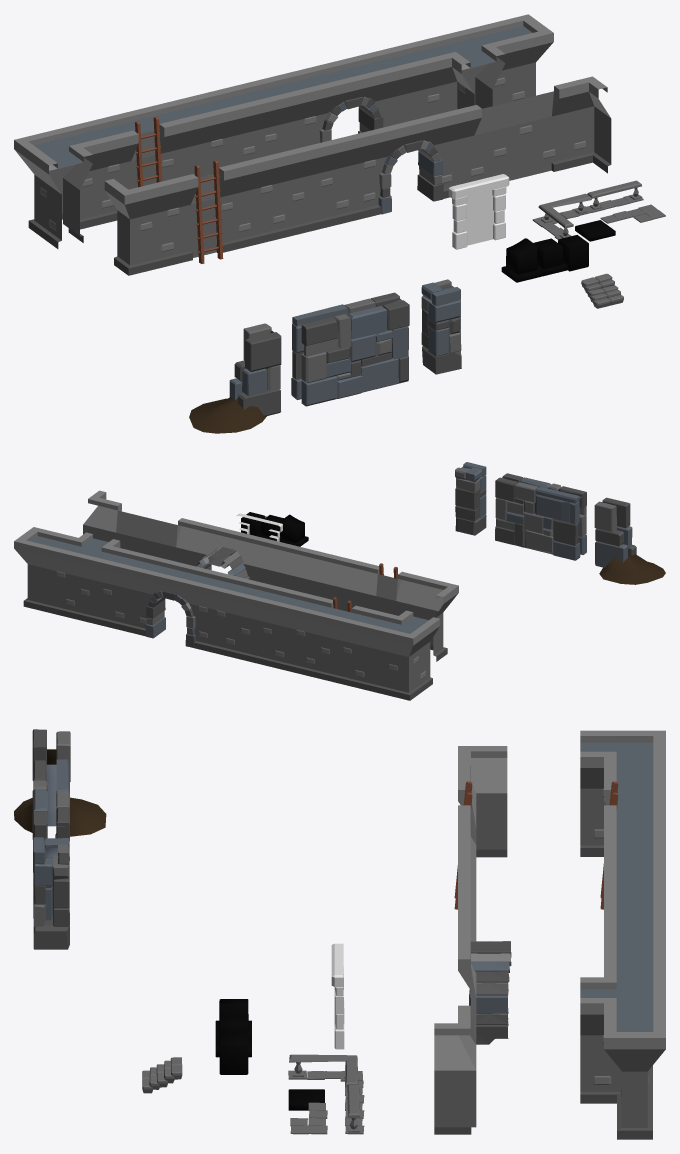
Rendered from ruins.glb.
3 renders of one model, top to bottom at view 1: azimuth 30°, elevation 25°; view 2: azimuth 150°, elevation 25°; view 3: azimuth 270°, elevation 25°, orthographic. The views are drawn at different scales.
Parts seen in each view (by area): view 1: Plane.156, Plane.078, Plane.077, Plane.119, Plane.084, Plane.083, Plane.082, Plane.036, Plane.081, Plane.158, Plane.069, Plane.080 (+12 smaller); view 2: Plane.084, Plane.083, Plane.119, Plane.156, Plane.082, Plane.081, Plane.077, Plane.158, Plane.036, Plane.078, Plane.085, Plane.157 (+7 smaller); view 3: Plane.084, Plane.081, Plane.085, Plane.080, Plane.036, Plane.157, Plane.079, Plane.119, Plane.082, Plane.083, Plane.158, Plane.156 (+11 smaller).
Part boxes in pixels (bbox=[...]): Plane.156: bbox=[291, 292, 409, 406]; Plane.078: bbox=[152, 158, 262, 269]; Plane.077: bbox=[255, 133, 365, 244]; Plane.119: bbox=[75, 100, 202, 225]; Plane.084: bbox=[384, 24, 512, 122]; Plane.083: bbox=[178, 74, 306, 177]; Plane.082: bbox=[281, 49, 409, 147]; Plane.036: bbox=[358, 108, 468, 219]; Plane.081: bbox=[14, 125, 99, 248]; Plane.158: bbox=[189, 323, 281, 433]; Plane.069: bbox=[487, 94, 540, 180]; Plane.080: bbox=[564, 76, 611, 173]; Plane.084: bbox=[46, 532, 145, 632]; Plane.083: bbox=[206, 574, 305, 671]; Plane.119: bbox=[286, 593, 385, 690]; Plane.156: bbox=[495, 473, 586, 560]; Plane.082: bbox=[126, 554, 225, 651]; Plane.081: bbox=[366, 610, 440, 700]; Plane.077: bbox=[266, 540, 351, 610]; Plane.158: bbox=[594, 497, 665, 584]; Plane.036: bbox=[186, 520, 271, 583]; Plane.078: bbox=[346, 559, 431, 619]; Plane.085: bbox=[14, 527, 65, 612]; Plane.157: bbox=[455, 462, 486, 535]; Plane.084: bbox=[580, 951, 665, 1110]; Plane.081: bbox=[580, 730, 665, 856]; Plane.085: bbox=[604, 1013, 665, 1139]; Plane.080: bbox=[434, 1013, 476, 1134]; Plane.036: bbox=[458, 890, 511, 1044]; Plane.157: bbox=[33, 837, 69, 949]; Plane.079: bbox=[458, 746, 507, 857]; Plane.119: bbox=[600, 767, 665, 909]; Plane.082: bbox=[604, 890, 665, 958]; Plane.083: bbox=[604, 828, 665, 896]; Plane.158: bbox=[14, 729, 106, 839]; Plane.156: bbox=[33, 759, 69, 872].
Bounding box in the file's own units: 22.71 × 4.12 × 17.88.
8 materials, 1 textured.
